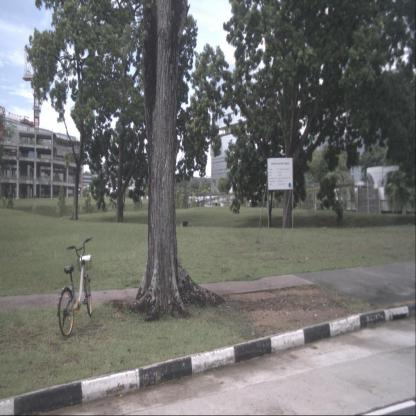vehicle-bicycle: (57, 235, 92, 338)
